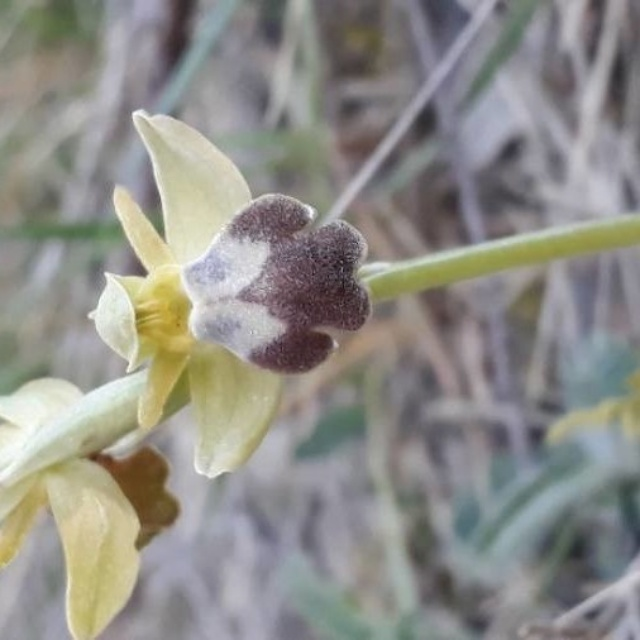obstacle: (57, 116, 520, 469)
